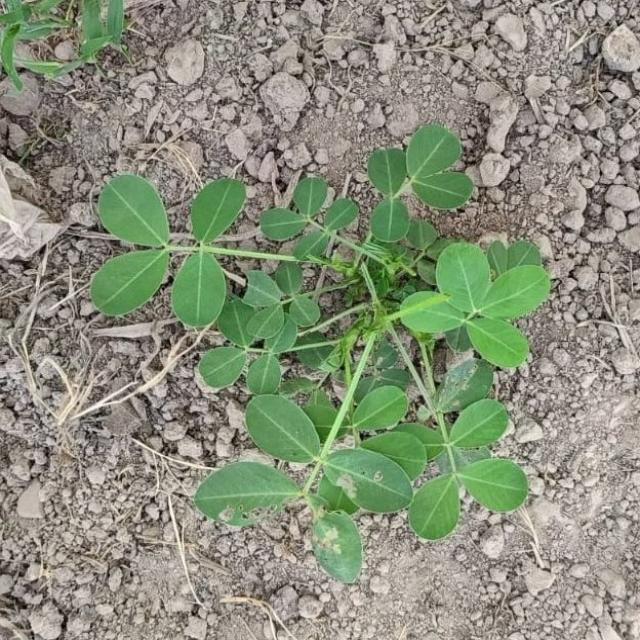plant: (90, 124, 551, 584)
